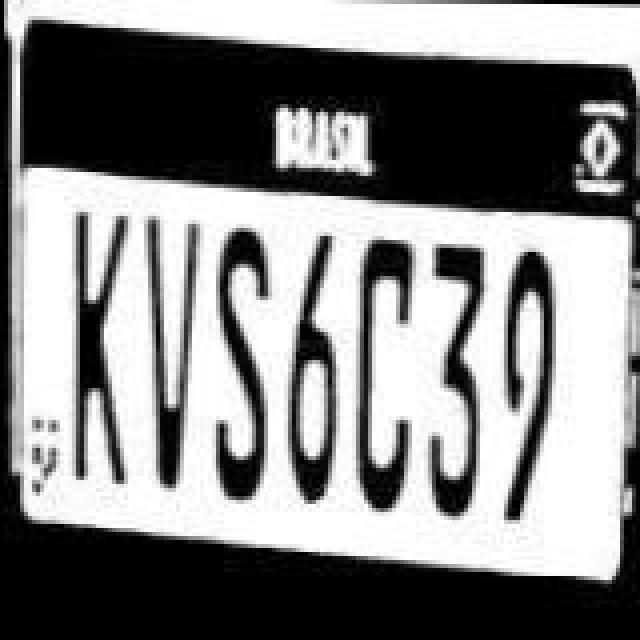3: (422, 238, 494, 518)
6: (282, 224, 346, 512)
9: (496, 240, 560, 528)
C: (348, 234, 424, 514)
K: (64, 196, 132, 492)
S: (212, 218, 288, 498)
V: (134, 206, 206, 494)
